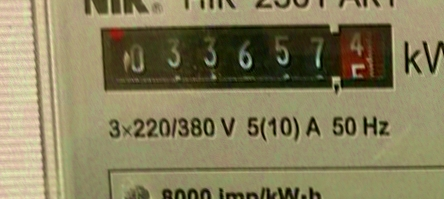0: (128, 40, 149, 77)
3: (166, 36, 185, 71), (202, 34, 220, 70)
4: (349, 29, 368, 59)
5: (272, 32, 294, 68)
6: (236, 37, 256, 72)
7: (309, 34, 327, 70)
screen: (90, 17, 403, 100)
